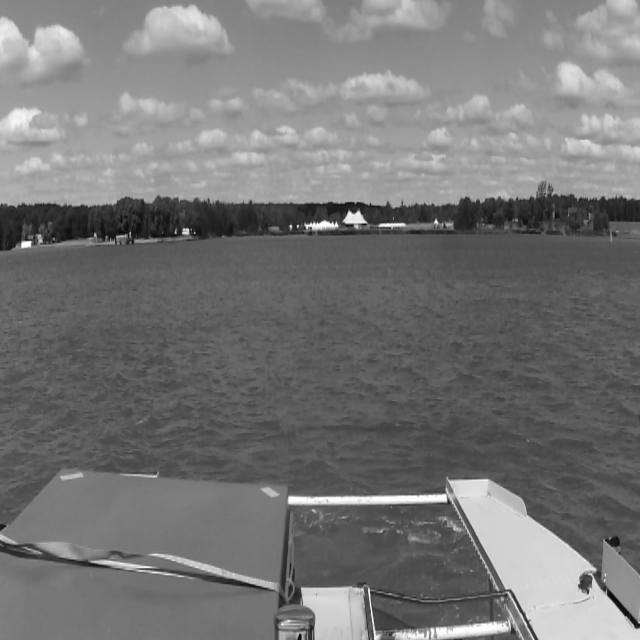buoy: (609, 228, 613, 244)
